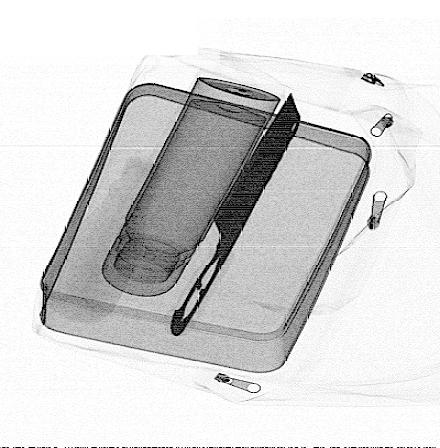Knife: (169, 90, 303, 339)
